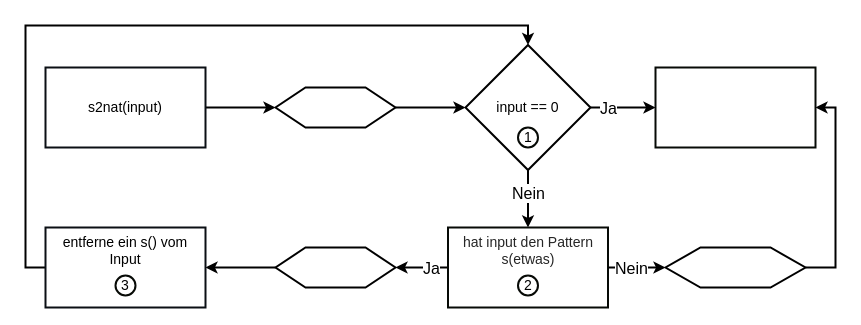
Image size: 861x325. Some labels were removed from this diagram. Each missing label, with the centre of its shape:
"gebe output zurück" goes at [735,107].
"output = 0" goes at [335,107].
"output = false" goes at [735,267].
"output++" goes at [335,267].
